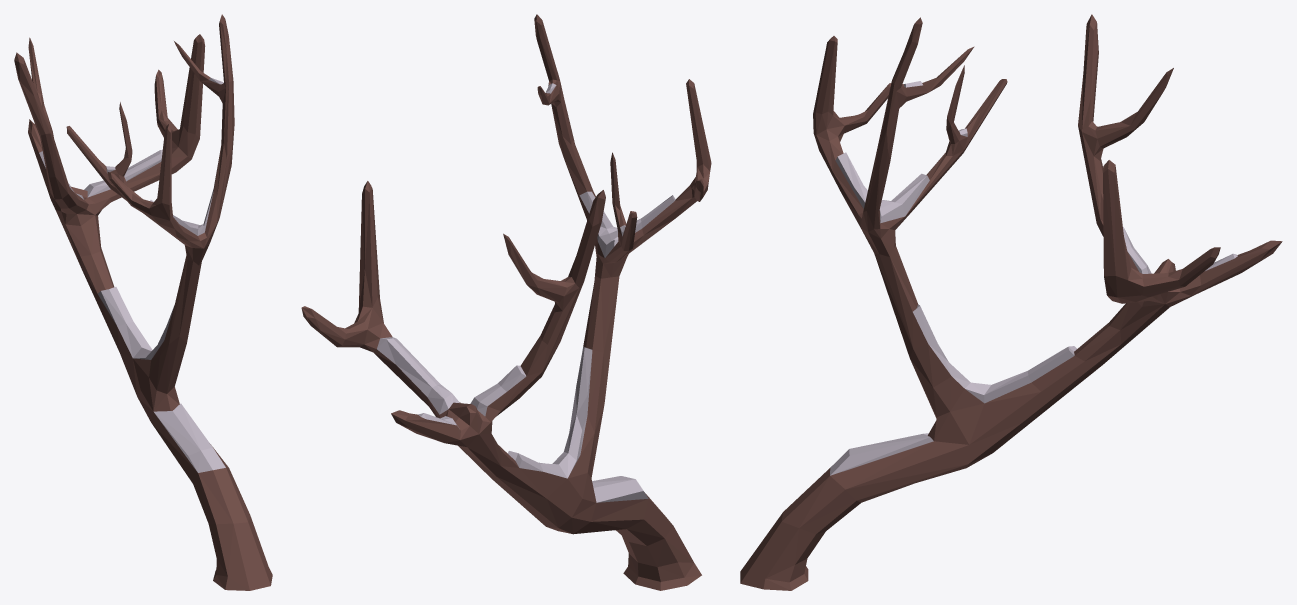
Rendered from Willow_Dead_Snow_2.lod1.glb.
3 views of the same model, side by side, from view 1: azimuth 30°, elevation 25°; view 2: azimuth 150°, elevation 25°; view 3: azimuth 270°, elevation 25° (orthographic). The views are drawn at different scales.
Parts seen in each view (by area): view 1: Willow_Dead_Snow_2; view 2: Willow_Dead_Snow_2; view 3: Willow_Dead_Snow_2.
Part boxes in pixels (x1,y1,x2,y2): Willow_Dead_Snow_2: (14, 14, 272, 590); Willow_Dead_Snow_2: (301, 14, 711, 590); Willow_Dead_Snow_2: (740, 14, 1282, 590).
Size of the model in its own units: 1.17 by 2.83 by 2.39.
